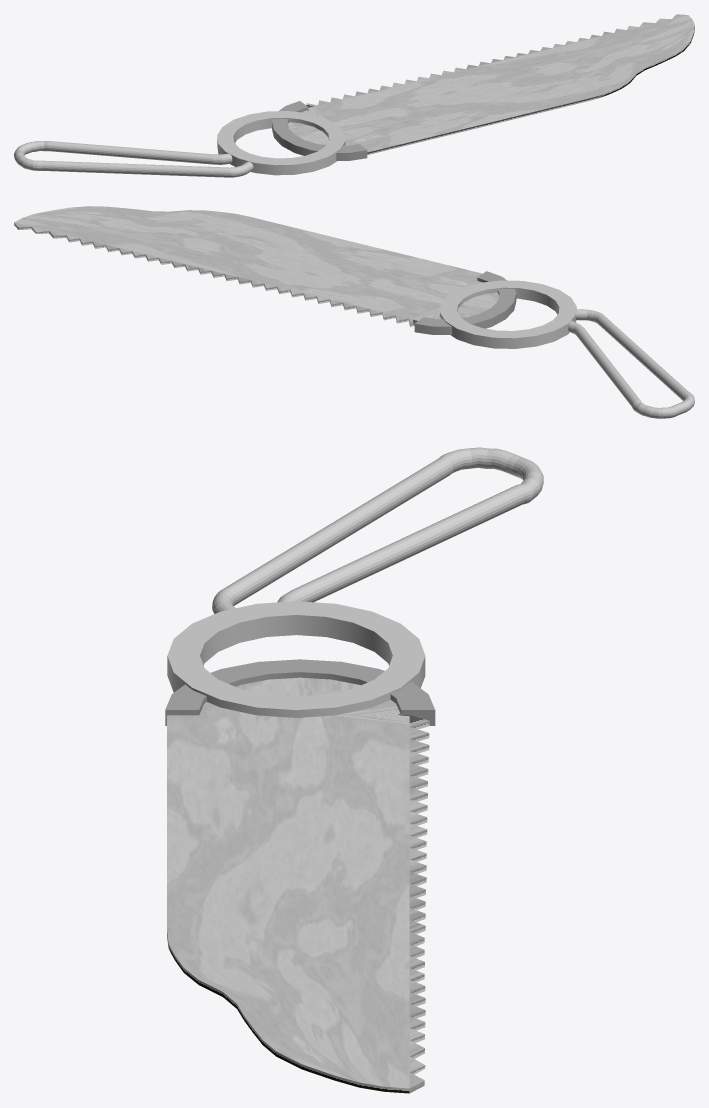
File: Surg knife.fbx
3 renders of one model, top to bottom at view 1: azimuth 30°, elevation 25°; view 2: azimuth 150°, elevation 25°; view 3: azimuth 270°, elevation 25°, orthographic. The views are drawn at different scales.
Parts seen in each view (by area): view 1: pCube192, pCylinder135, pCylinder116, pCylinder115; view 2: pCube192, pCylinder116, pCylinder135, pCylinder115; view 3: pCube192, pCylinder116, pCylinder135, pCylinder115.
Part boxes in pixels (x1,y1,x2,y2): pCube192: (288,14,694,154); pCylinder135: (14,141,253,177); pCylinder116: (217,111,345,175); pCylinder115: (272,101,367,160); pCube192: (14,206,499,326); pCylinder116: (440,280,576,348); pCylinder135: (568,309,694,418); pCylinder115: (414,271,516,334); pCube192: (167,677,429,1093); pCylinder116: (167,601,425,717); pCylinder135: (212,447,543,613); pCylinder115: (165,659,435,725).
Bounding box in the file's own units: 0.7043 × 0.0112 × 0.1769.
2 materials, 1 textured.
